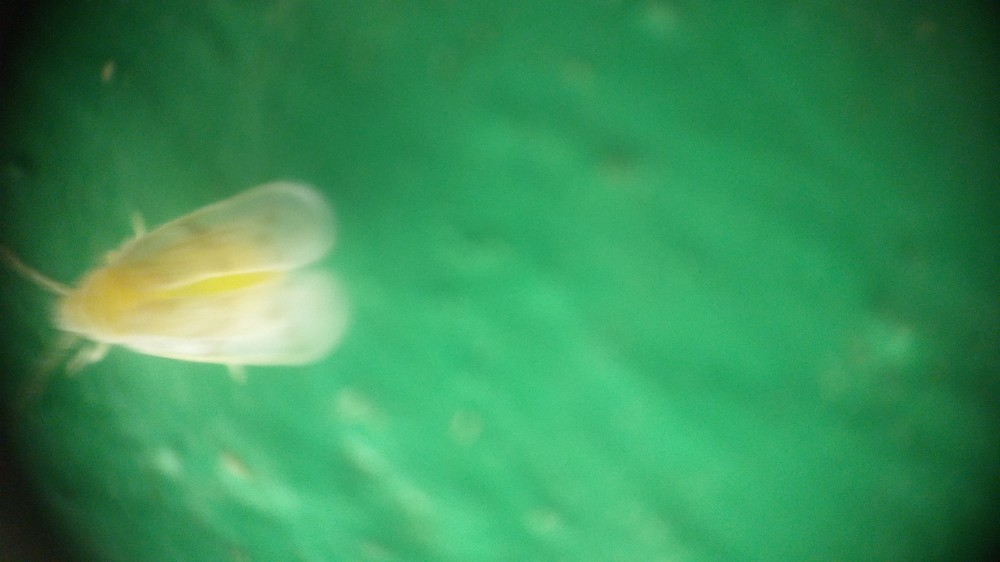Mosca Blanca: (13, 154, 372, 416)
